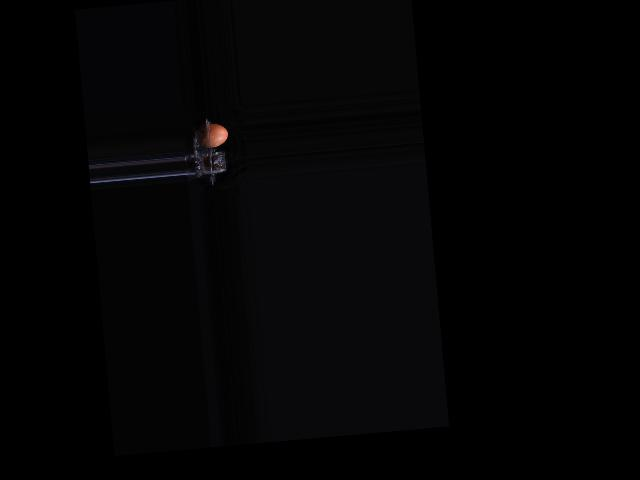egg: (195, 121, 228, 148)
